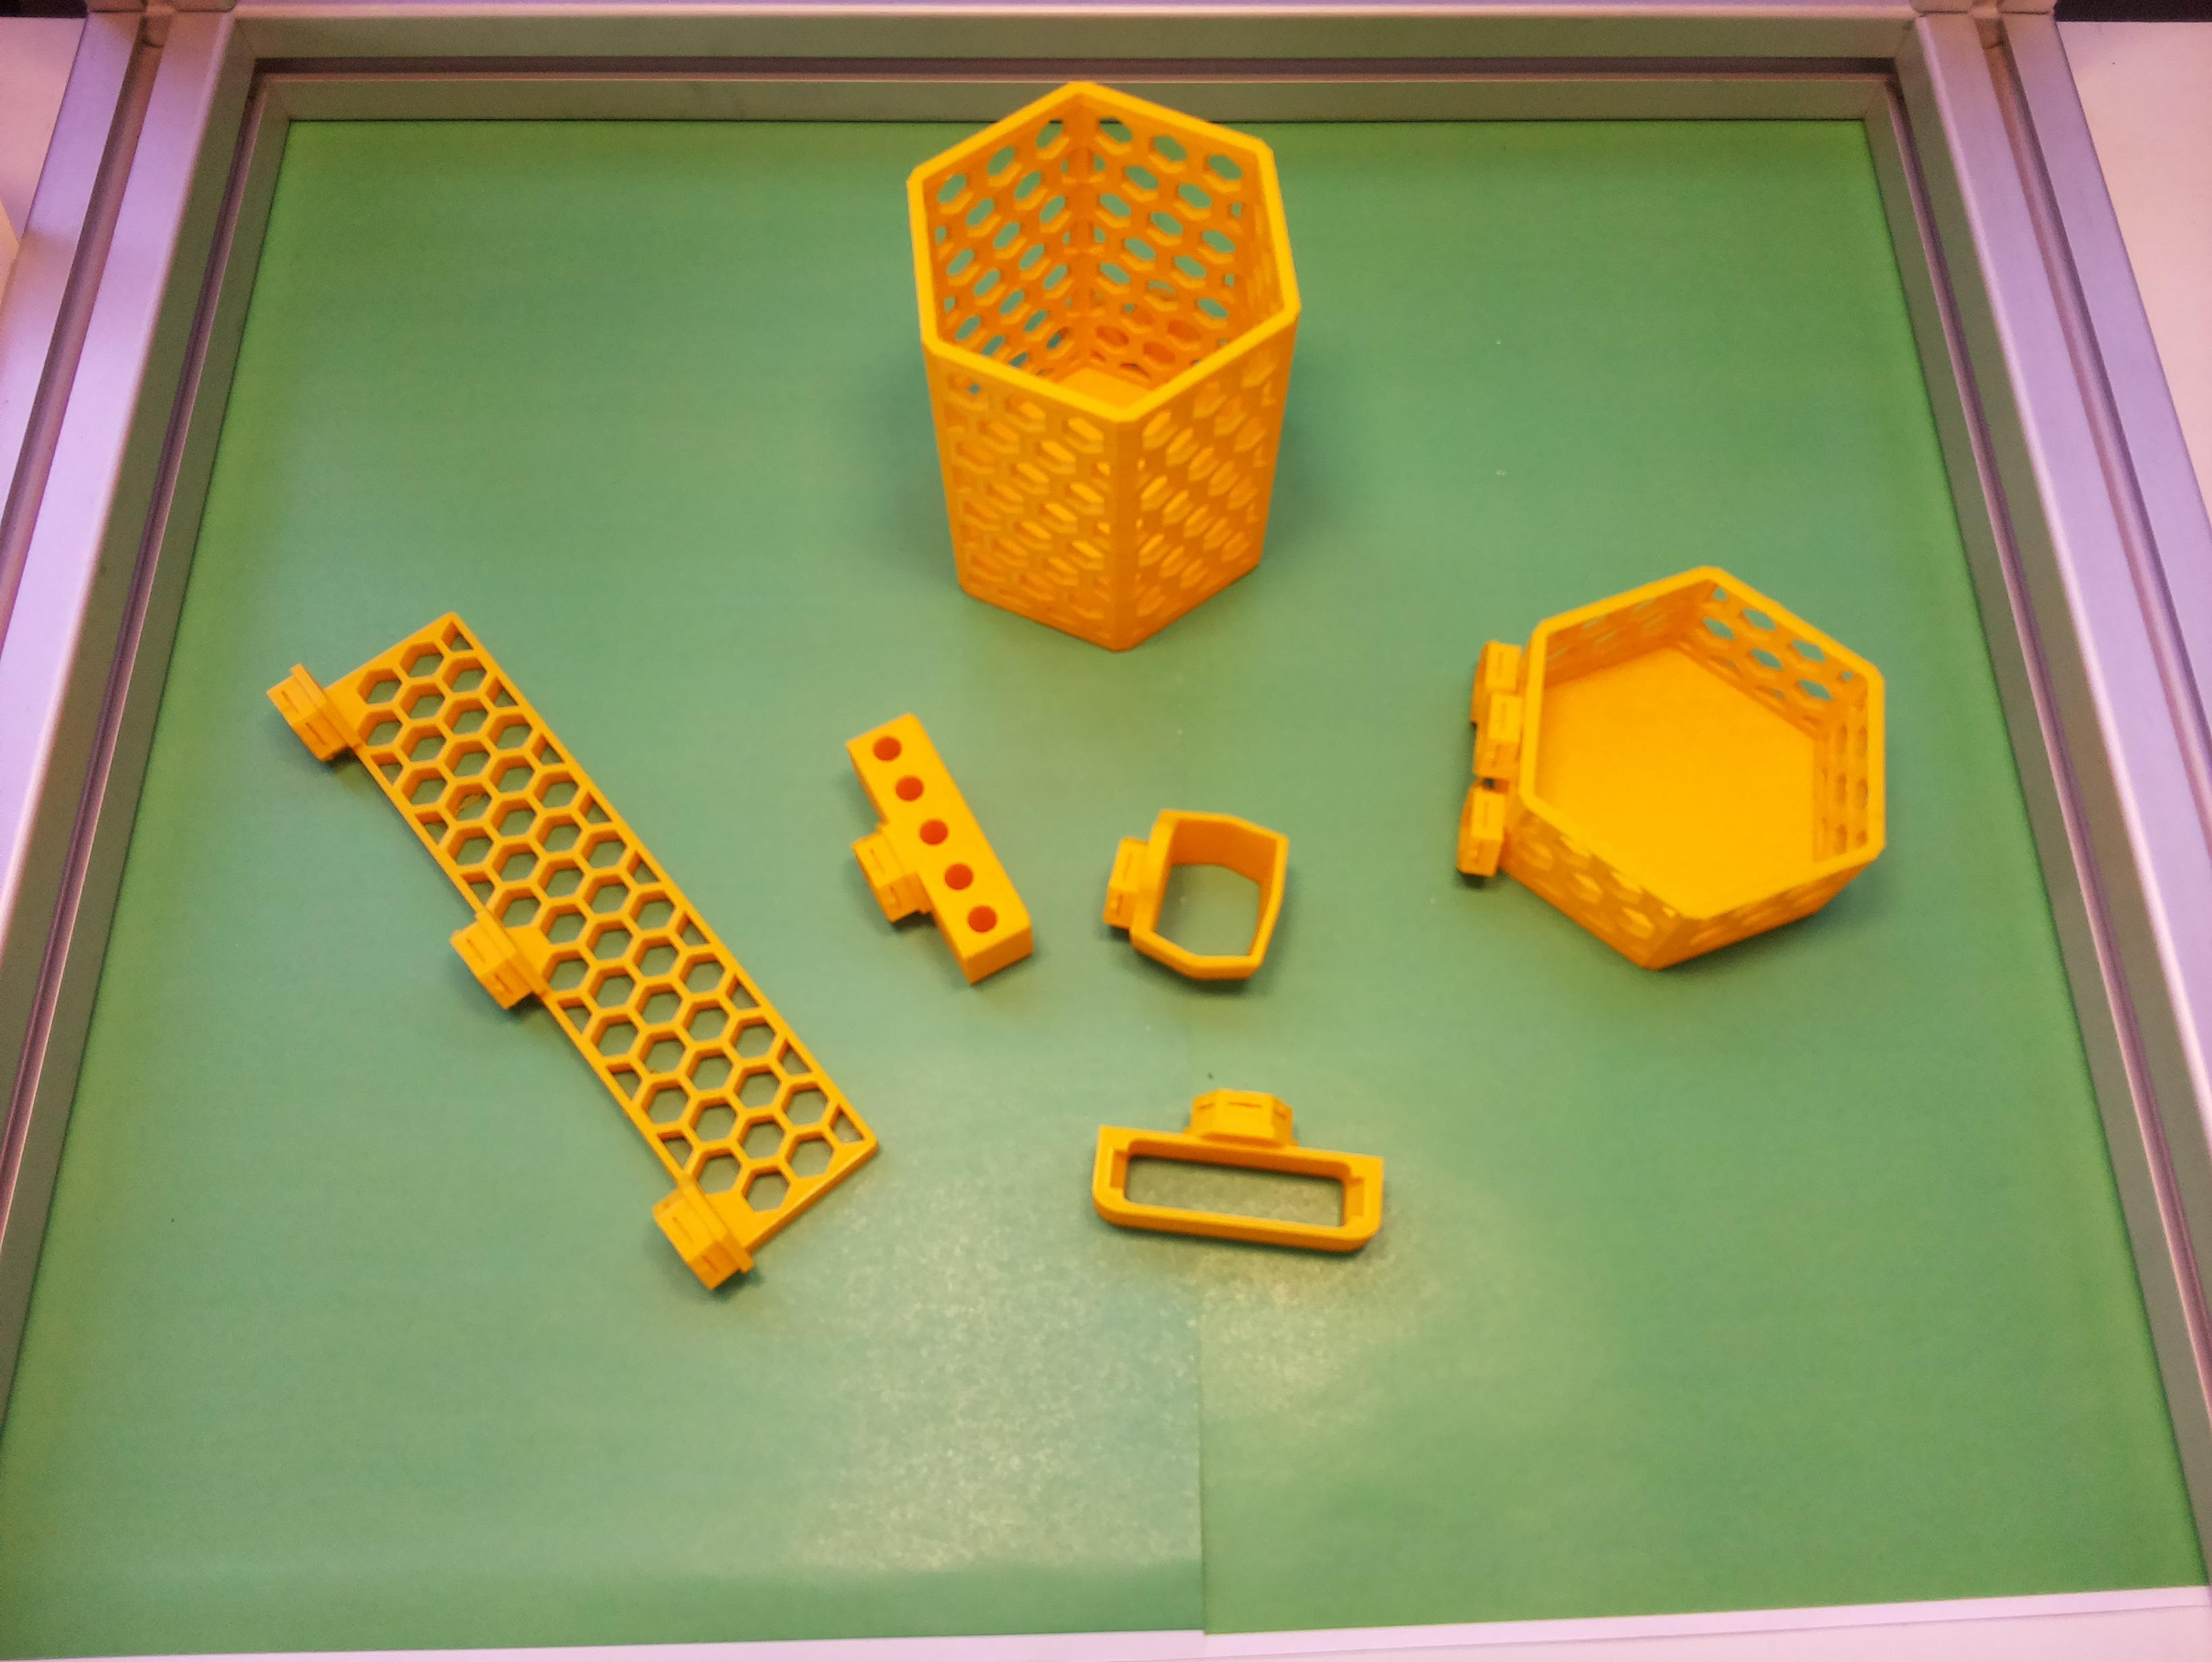bit_holder: (801, 707, 1046, 1006)
bottle_holder: (1388, 517, 1950, 1023)
cup_holder: (889, 56, 1346, 672)
cutter_holder: (1089, 1079, 1391, 1257)
scissor_holder: (1095, 794, 1297, 992)
tool_holder: (243, 566, 892, 1297)
